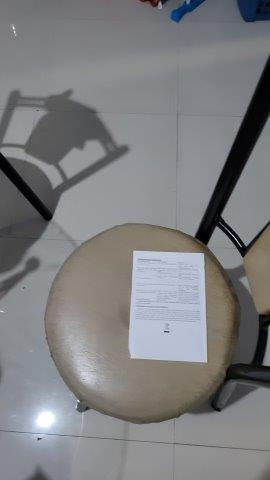kertas: (129, 250, 206, 362)
